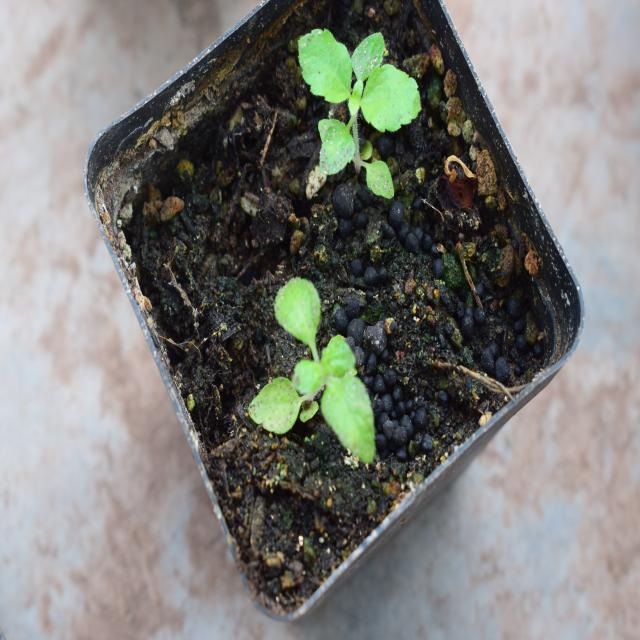billygoat_weed: (275, 9, 415, 216), (259, 277, 387, 454)
